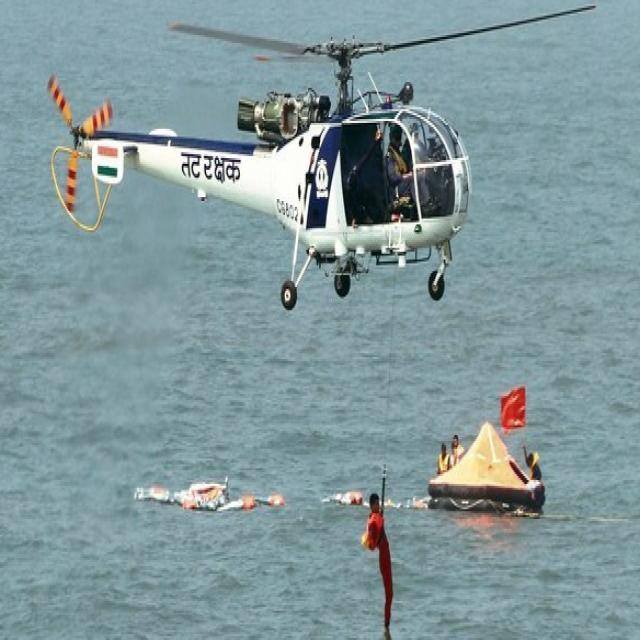helicopter: (43, 1, 610, 331)
